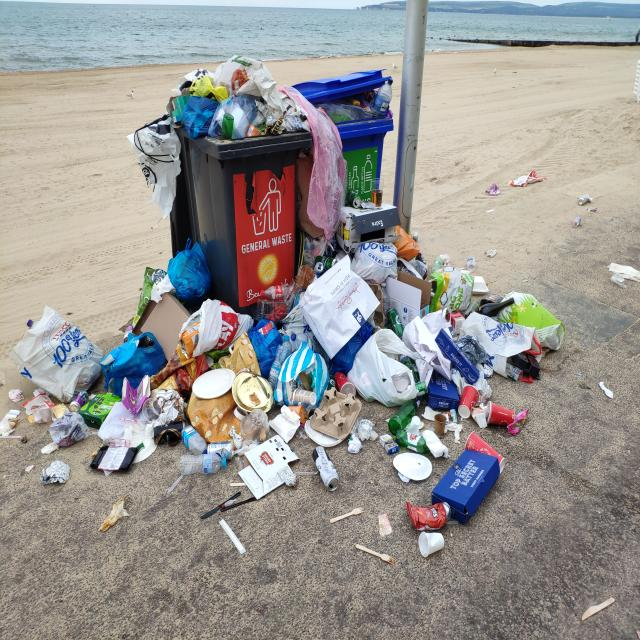lixo domiciliar: (294, 253, 383, 366), (12, 307, 106, 402), (290, 88, 348, 240), (459, 311, 545, 385), (345, 326, 419, 406), (128, 116, 182, 218), (431, 449, 505, 522), (178, 296, 254, 364), (490, 290, 565, 353), (138, 295, 197, 365), (239, 435, 302, 500), (104, 331, 167, 394), (99, 400, 157, 460), (304, 390, 364, 448), (278, 346, 331, 410), (382, 269, 432, 329), (132, 263, 174, 330), (169, 241, 214, 301), (434, 328, 479, 383), (428, 269, 478, 316), (218, 91, 264, 140), (168, 92, 218, 136), (250, 316, 289, 372), (213, 54, 277, 88), (231, 367, 275, 416), (352, 242, 401, 280), (262, 94, 312, 131), (43, 414, 88, 455), (190, 367, 239, 401), (90, 442, 136, 477), (485, 400, 527, 436), (386, 226, 421, 264), (392, 452, 434, 482), (312, 448, 340, 493), (388, 399, 421, 436), (429, 372, 460, 411), (81, 395, 121, 421), (355, 541, 396, 566), (157, 387, 187, 421), (410, 502, 449, 528), (219, 520, 247, 556), (190, 73, 230, 98), (269, 406, 302, 436), (179, 454, 228, 473), (580, 597, 618, 620), (101, 501, 129, 531), (457, 383, 479, 421), (319, 106, 368, 123), (181, 421, 205, 453), (0, 406, 24, 438), (608, 262, 640, 285), (423, 431, 450, 457), (42, 460, 71, 484), (155, 420, 179, 449), (476, 296, 514, 314), (375, 77, 394, 112), (394, 428, 424, 450), (29, 396, 52, 424), (260, 284, 294, 302), (330, 507, 365, 524), (421, 532, 444, 556), (356, 418, 378, 443), (352, 94, 371, 121), (388, 307, 403, 340), (509, 170, 544, 184), (208, 439, 235, 457), (432, 414, 448, 441), (378, 512, 393, 539), (380, 434, 399, 453), (370, 180, 384, 205), (599, 381, 616, 399), (352, 199, 376, 211), (222, 496, 241, 511), (435, 254, 450, 270), (577, 195, 593, 205), (10, 388, 22, 401), (488, 183, 498, 196), (483, 249, 498, 257), (465, 259, 476, 269), (574, 217, 582, 227)
